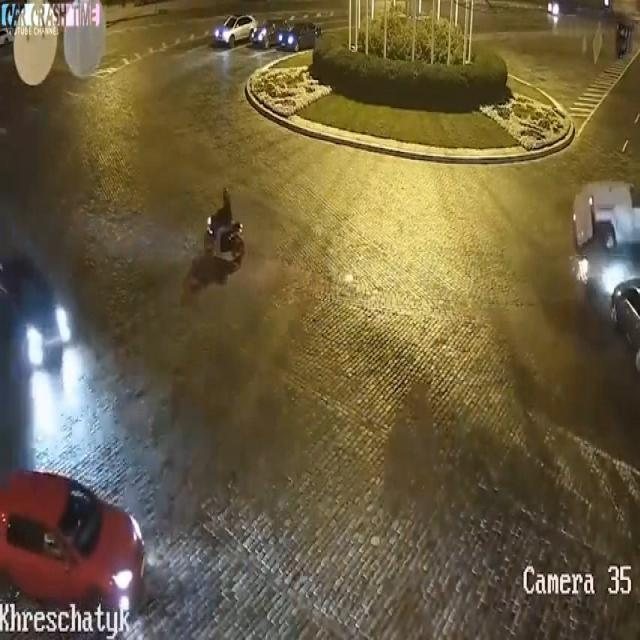Accident: (581, 154, 640, 378)
